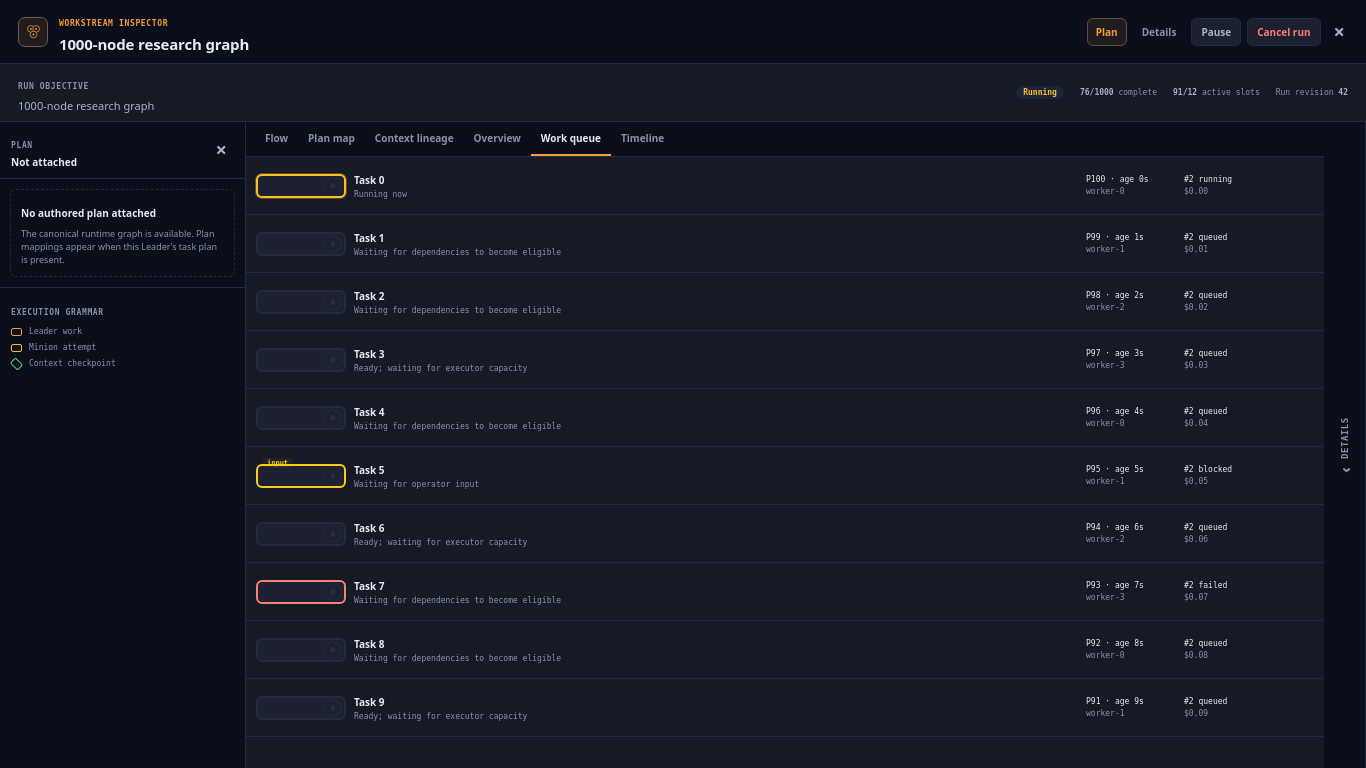
Test: GraphInspector › mounts a bounded queue and topology for 1,000 nodes
Check: the button with class "tg-queue-row" that starts with "Task 0" is shown, box [246,157,1324,215]
Click the tab "Flow": (277, 139) [255,122,298,156]
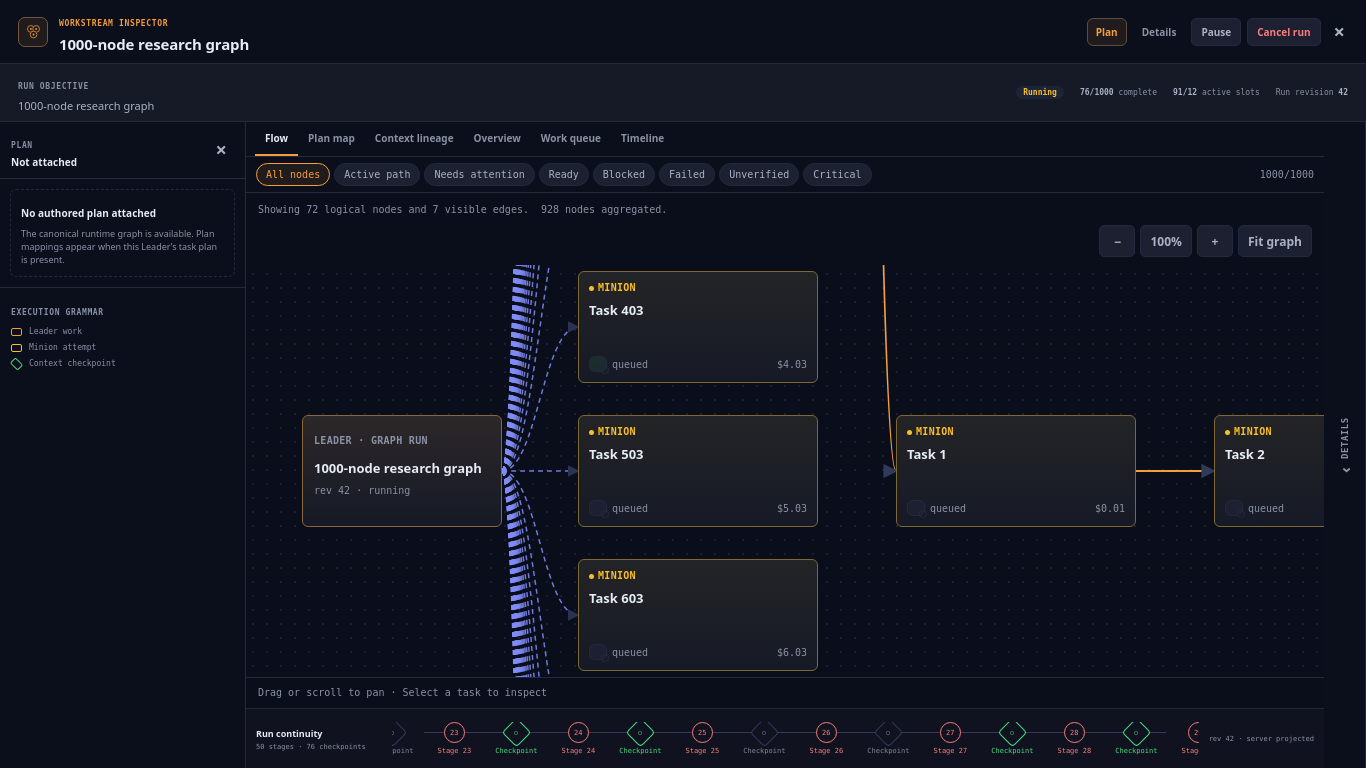
Check: the text "928 nodes aggregated." is shown, box [541,203,667,217]
